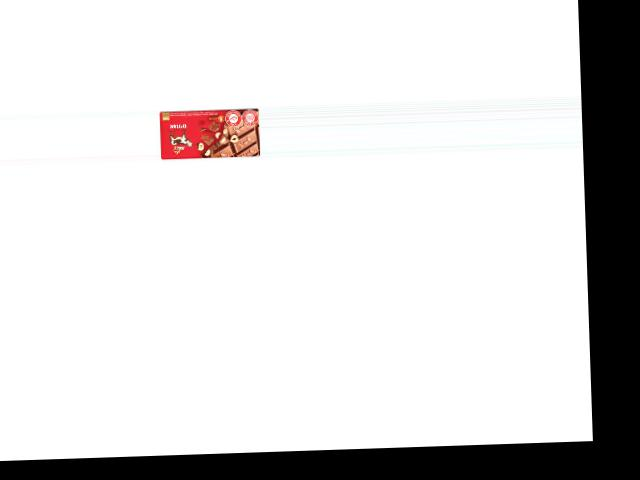chocolate: (159, 107, 260, 159)
